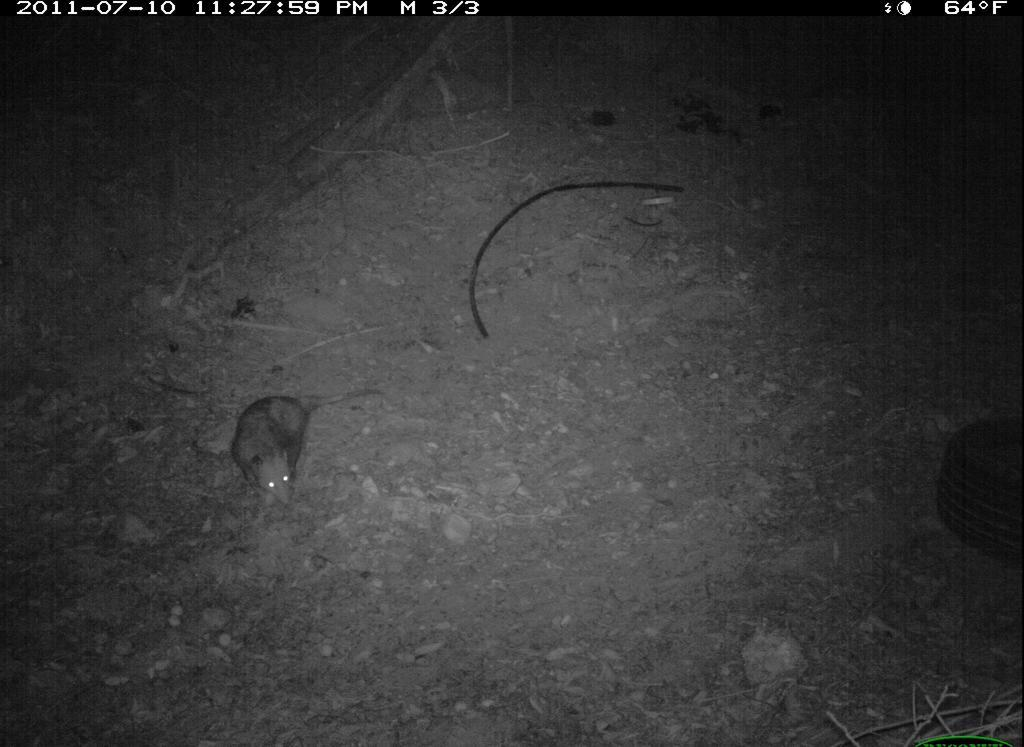opossum: (231, 386, 391, 520)
